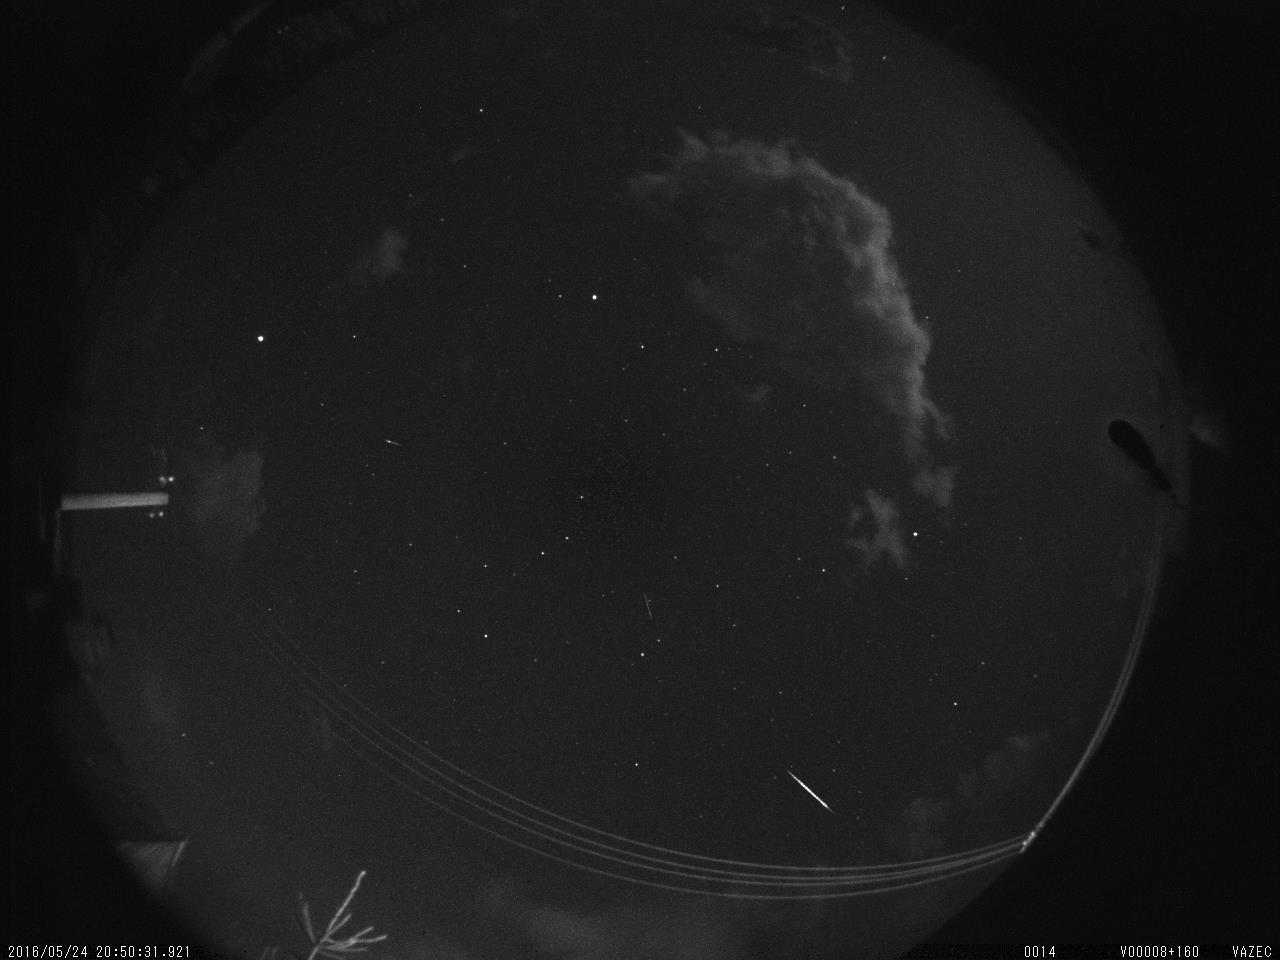Meteor: (785, 765, 834, 813), (383, 434, 404, 451)
